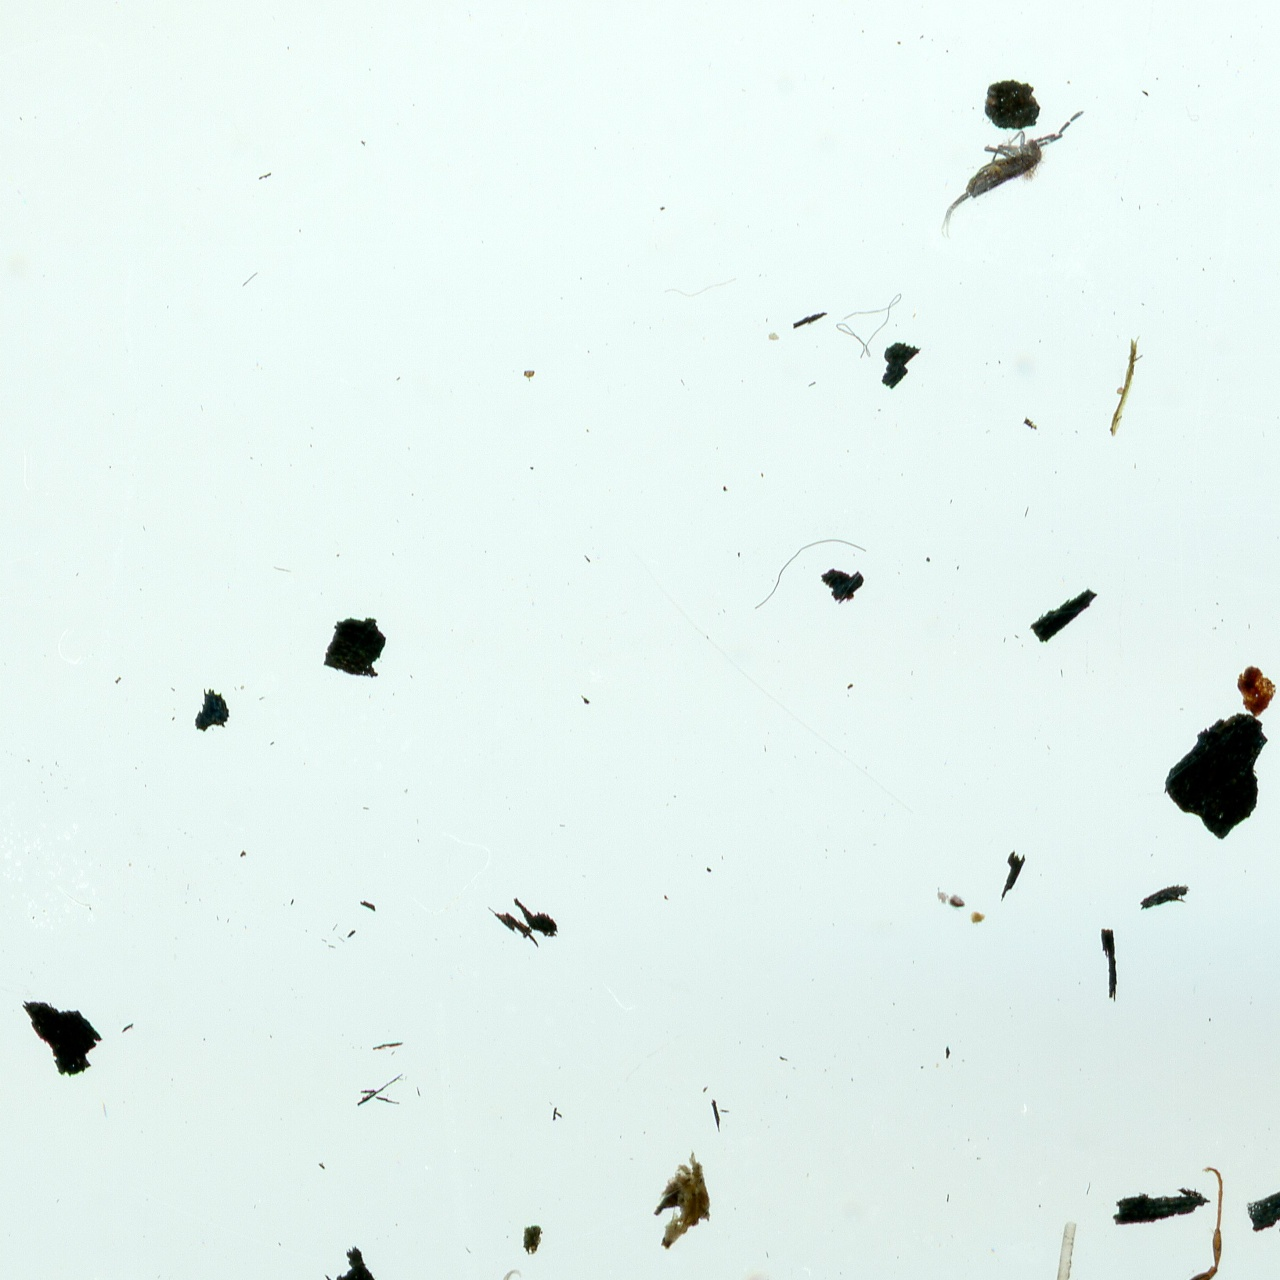arthropod: (909, 83, 1107, 250), (1024, 1165, 1257, 1280), (473, 1267, 524, 1280)
